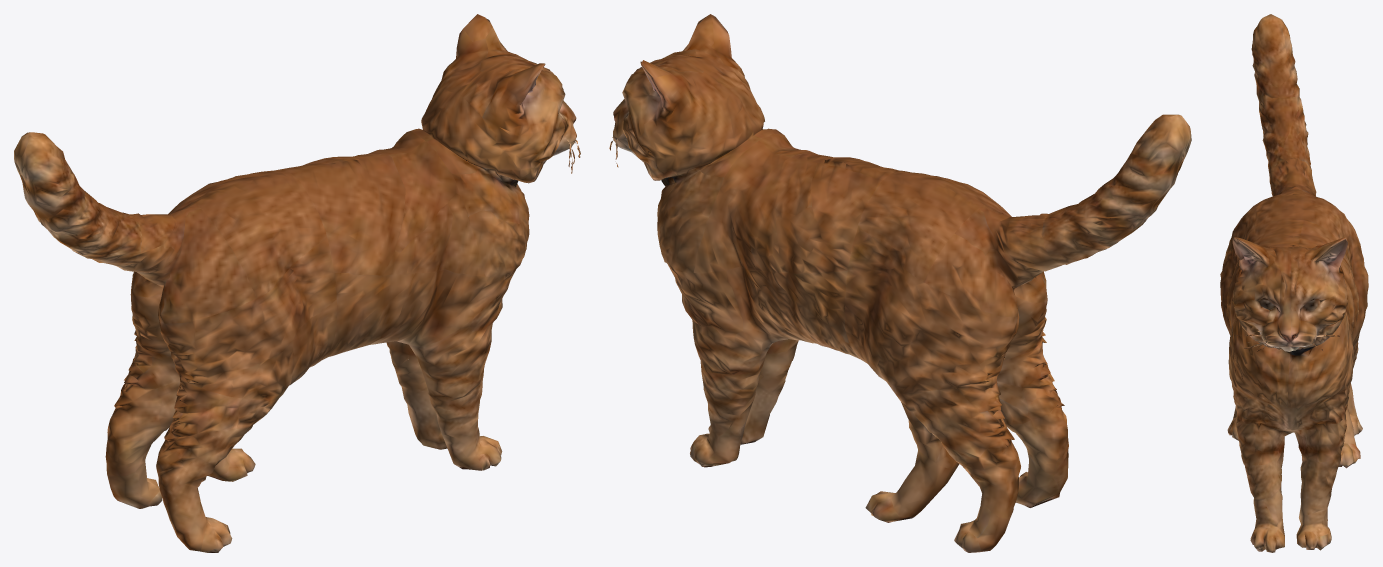
The model's file is HAMLETCAT-lo.glb.
3 renders of one model, left to right at view 1: azimuth 30°, elevation 25°; view 2: azimuth 150°, elevation 25°; view 3: azimuth 270°, elevation 25°, orthographic. The views are drawn at different scales.
Visible parts, largest first — view 1: tripo_node_cac38552-f9a1-4aba-b408-35f5ca4a29e2; view 2: tripo_node_cac38552-f9a1-4aba-b408-35f5ca4a29e2; view 3: tripo_node_cac38552-f9a1-4aba-b408-35f5ca4a29e2.
Boxes of the visible parts, x1,y1,x2,y2 form: tripo_node_cac38552-f9a1-4aba-b408-35f5ca4a29e2: (14,14,580,552); tripo_node_cac38552-f9a1-4aba-b408-35f5ca4a29e2: (609,14,1191,552); tripo_node_cac38552-f9a1-4aba-b408-35f5ca4a29e2: (1220,14,1368,552).
Bounding box in the file's own units: 1.35 × 0.9975 × 0.3756.
Materials: 1 (1 with a texture image).
